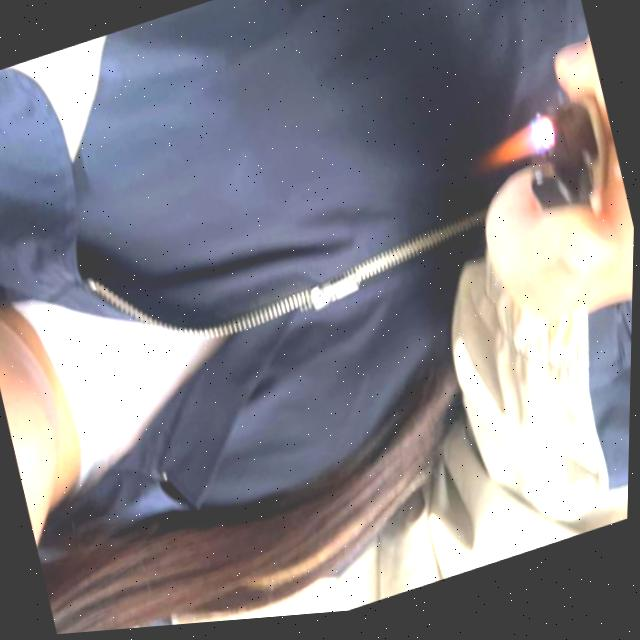Fire: (483, 126, 549, 182)
